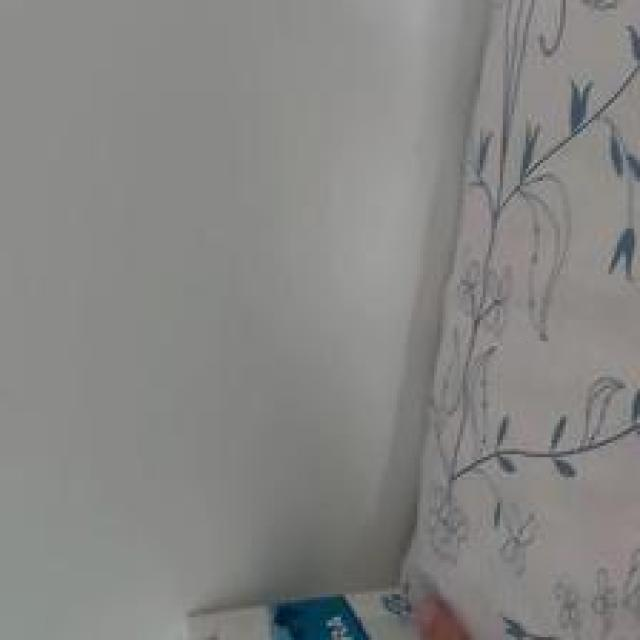Carton: (187, 585, 418, 640)
